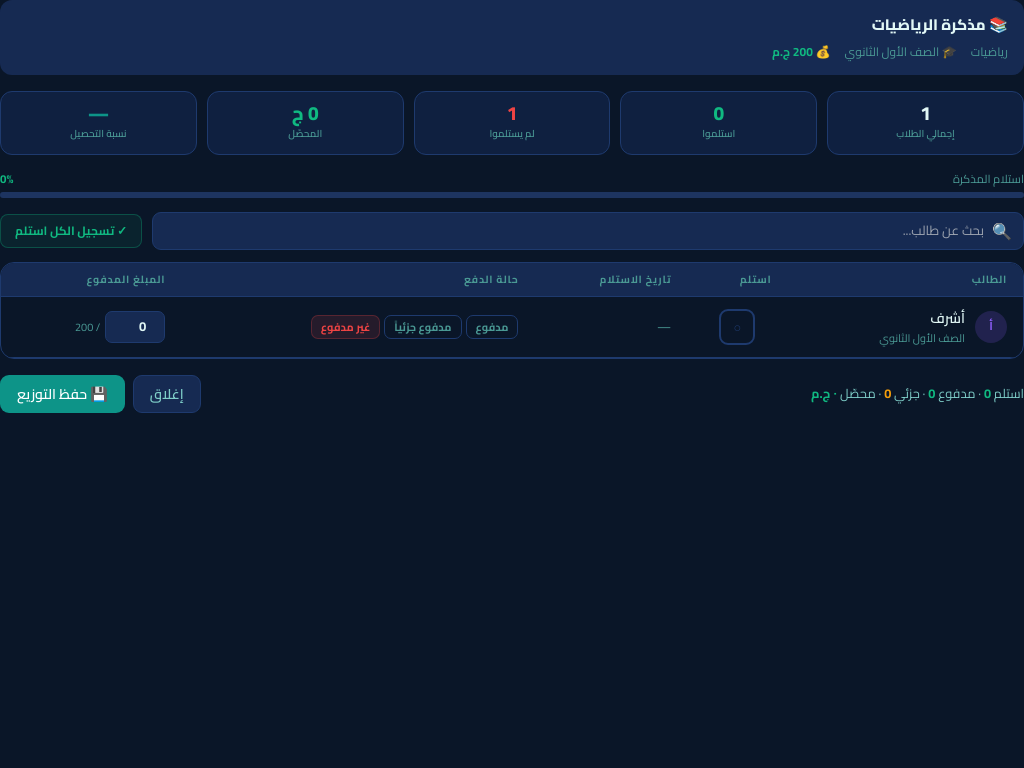
Test: MaterialDistribution — booklet payment confirmation dialog › server failure during confirmation keeps the dialog open with an error and never marks the booklet paid locally
The image size is (1024, 768).
Click the button "مدفوع".
click(492, 327)  # box [466, 315, 518, 339]
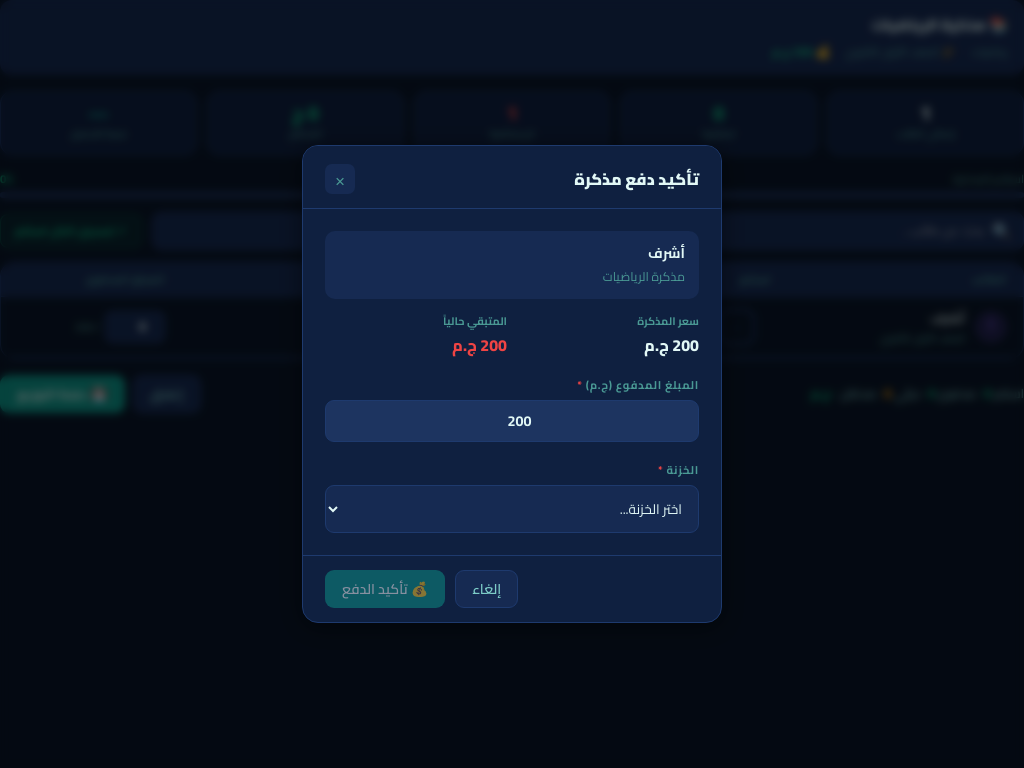
Check: the text "تأكيد دفع مذكرة" is shown, box [574, 167, 699, 191]
Select "الخزنة الرئيسية" in the dropdown at (512, 509), box [325, 485, 699, 533]
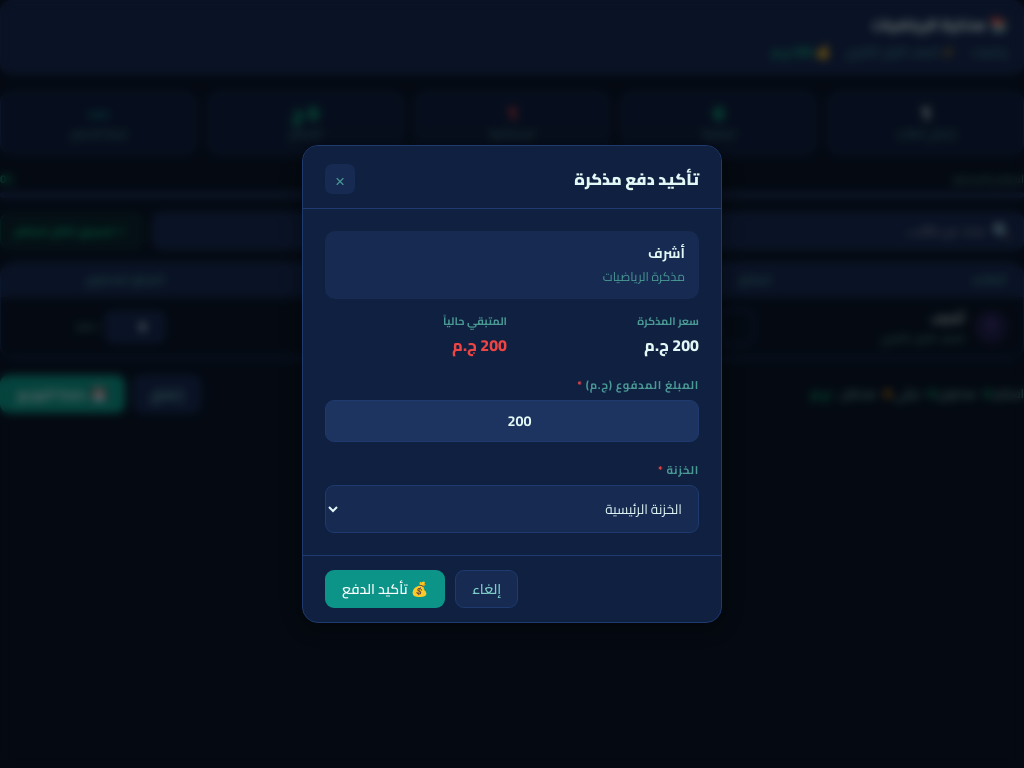
Click the button "💰 تأكيد الدفع".
click(385, 589)  # box [325, 570, 445, 608]
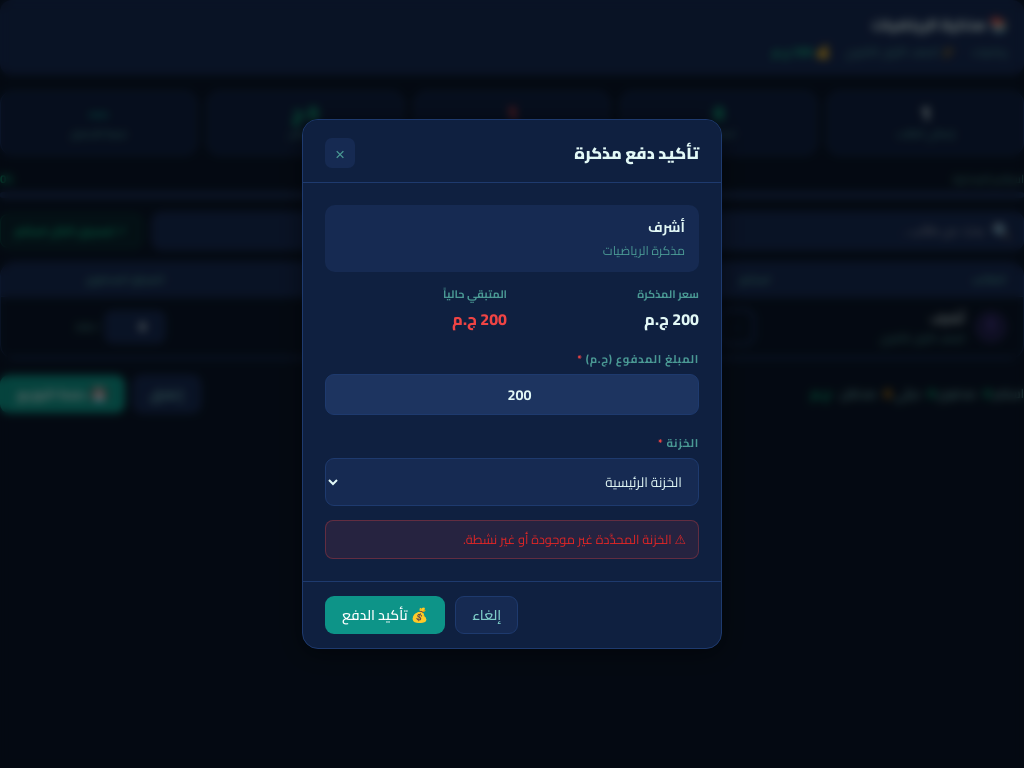
Check: the text "⚠ الخزنة المحدَّدة غير موجودة أو غير نشطة." is shown, box [325, 520, 699, 560]
